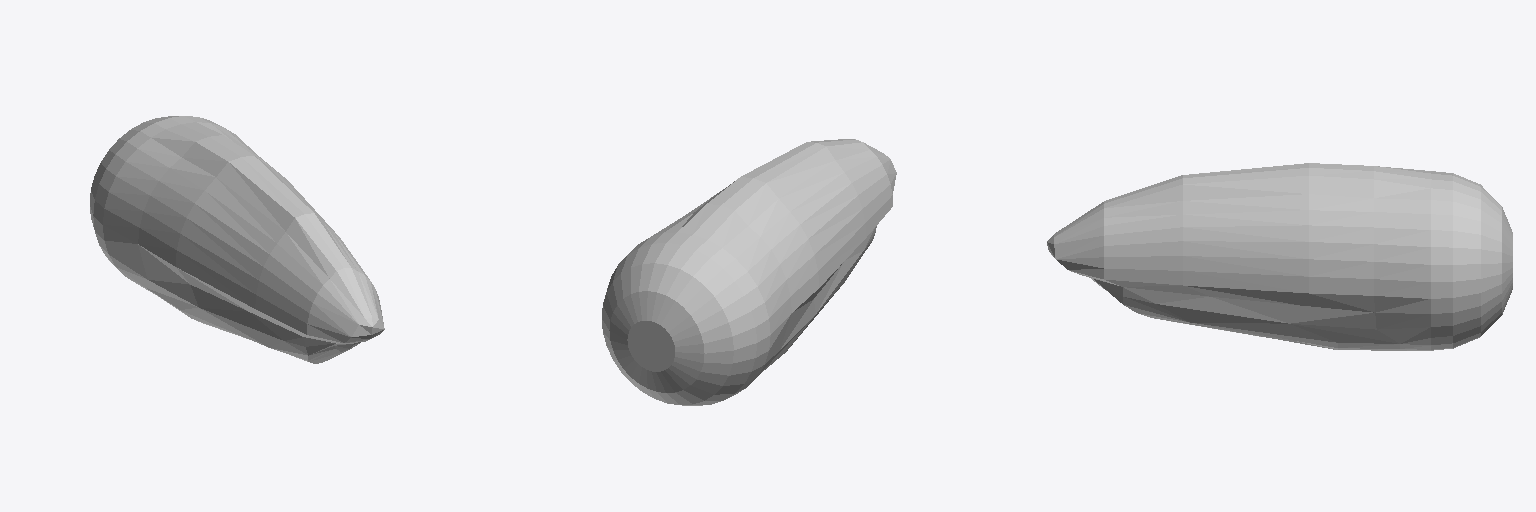
File: boidHead.obj
The picture shows the model from 3 angles: view 1: azimuth 30°, elevation 25°; view 2: azimuth 150°, elevation 25°; view 3: azimuth 270°, elevation 25°; orthographic projection.
Parts seen in each view (by area): view 1: Cylinder1; view 2: Cylinder1; view 3: Cylinder1.
Boxes of the visible parts, x1=… form: Cylinder1: x1=90, y1=116, x2=384, y2=363; Cylinder1: x1=602, y1=139, x2=896, y2=405; Cylinder1: x1=1047, y1=163, x2=1512, y2=350.
Bounding box in the file's own units: 0.6581 × 0.7122 × 1.7.